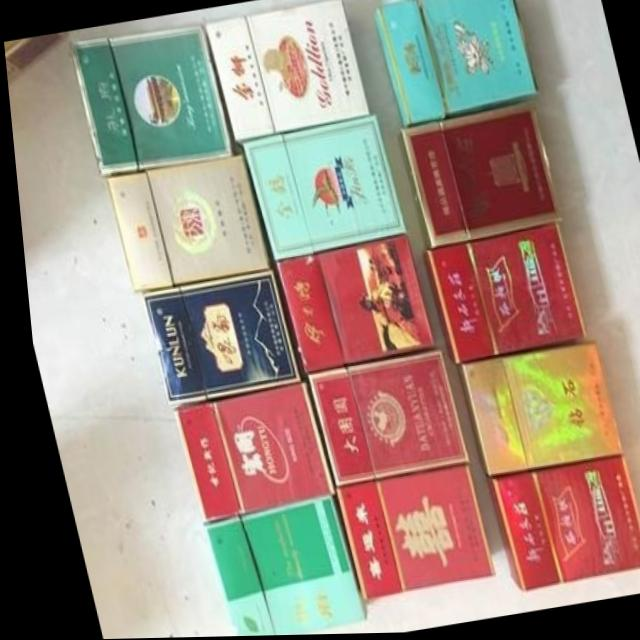box: (101, 140, 269, 296), (68, 25, 234, 177), (205, 0, 369, 149), (240, 117, 405, 263), (449, 337, 615, 479), (399, 100, 557, 249), (162, 382, 325, 525), (416, 226, 582, 366), (298, 348, 461, 489), (474, 454, 640, 592), (268, 236, 430, 377), (193, 496, 355, 637), (324, 464, 484, 604), (135, 270, 296, 408), (370, 0, 539, 128)
